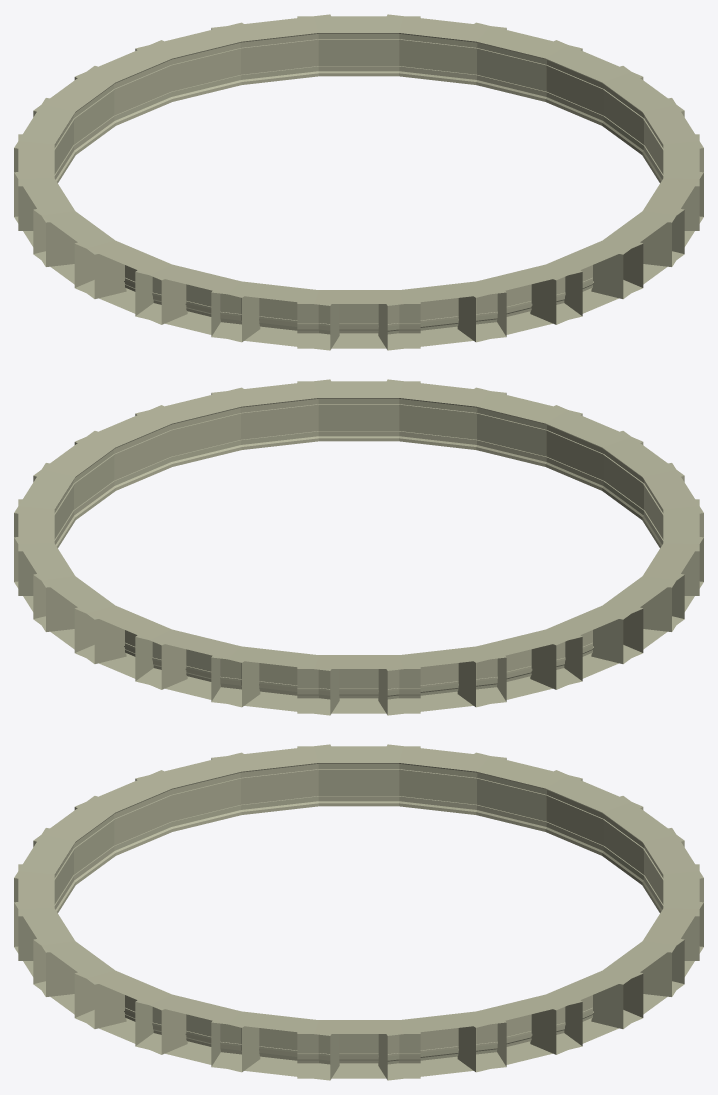
File: SM_castleJoin.fbx
3 renders of one model, top to bottom at view 1: azimuth 30°, elevation 25°; view 2: azimuth 150°, elevation 25°; view 3: azimuth 270°, elevation 25°, orthographic.
Parts seen in each view (by area): view 1: SM_castlebase; view 2: SM_castlebase; view 3: SM_castlebase.
Boxes of the visible parts, <box> form: SM_castlebase: <box>14,14,703,350</box>; SM_castlebase: <box>14,379,703,715</box>; SM_castlebase: <box>14,744,703,1080</box>.
Bounding box in the file's own units: 4799 × 343 × 4799.
